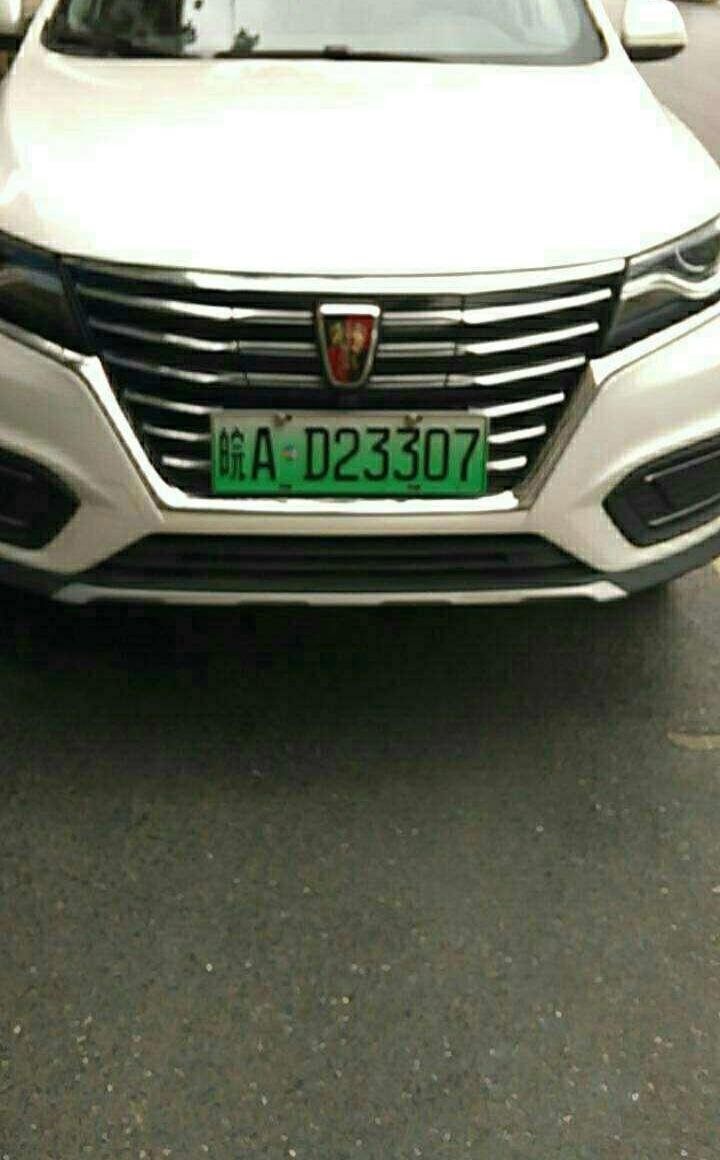car_id: (213, 413, 486, 492)
